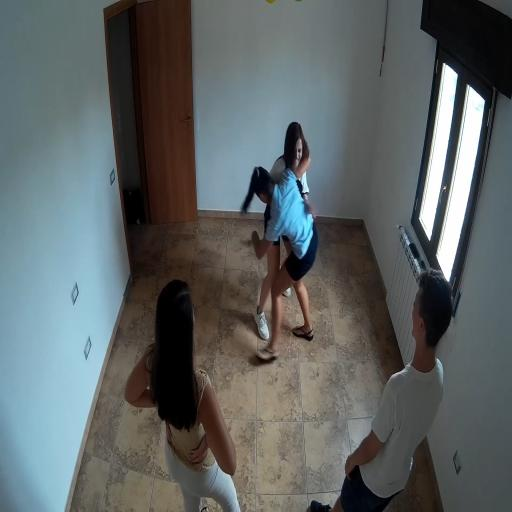violencia: (220, 107, 323, 367)
